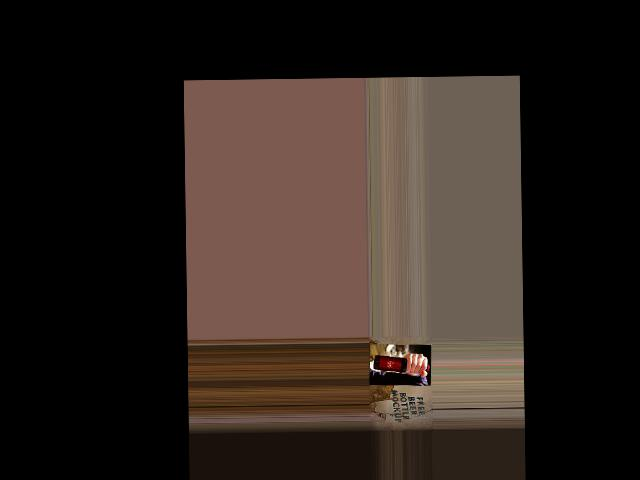beer: (373, 354, 429, 372)
